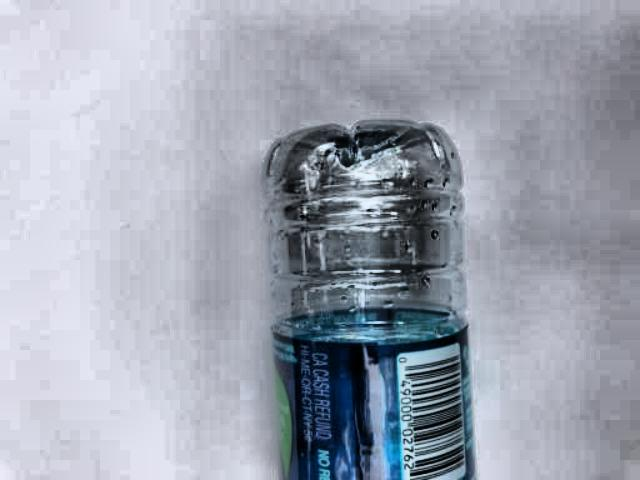Bottles: (256, 125, 482, 476)
